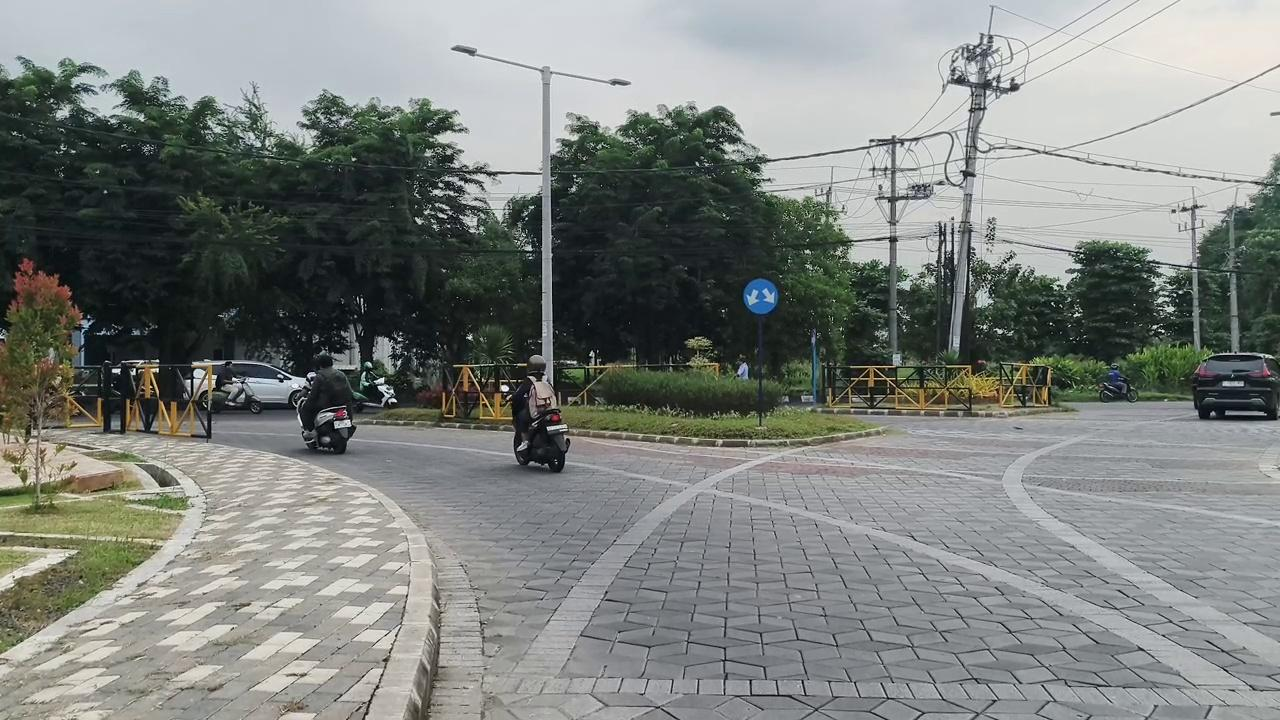Helmet: (299, 354, 353, 439), (512, 355, 545, 451), (357, 361, 376, 396), (1107, 364, 1126, 395)
Motor: (513, 408, 570, 472), (297, 403, 355, 453), (205, 382, 262, 413), (353, 377, 397, 411), (1098, 379, 1138, 402)
